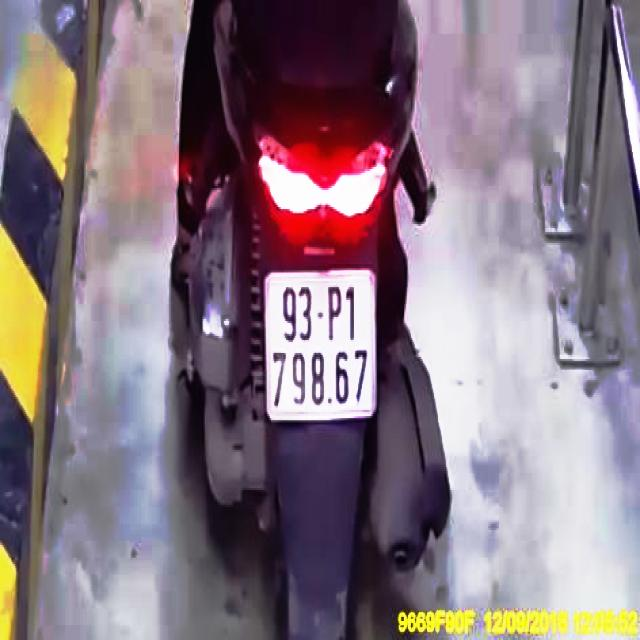license_plate: (266, 271, 380, 424)
